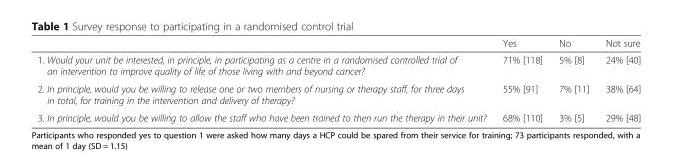table: (36, 37, 640, 123)
table column: (36, 37, 493, 123), (493, 37, 550, 123), (550, 37, 596, 123), (596, 37, 640, 123)
table column header: (36, 37, 640, 51)
table row: (36, 79, 640, 108), (36, 51, 640, 79), (36, 108, 640, 123), (36, 37, 640, 51)
